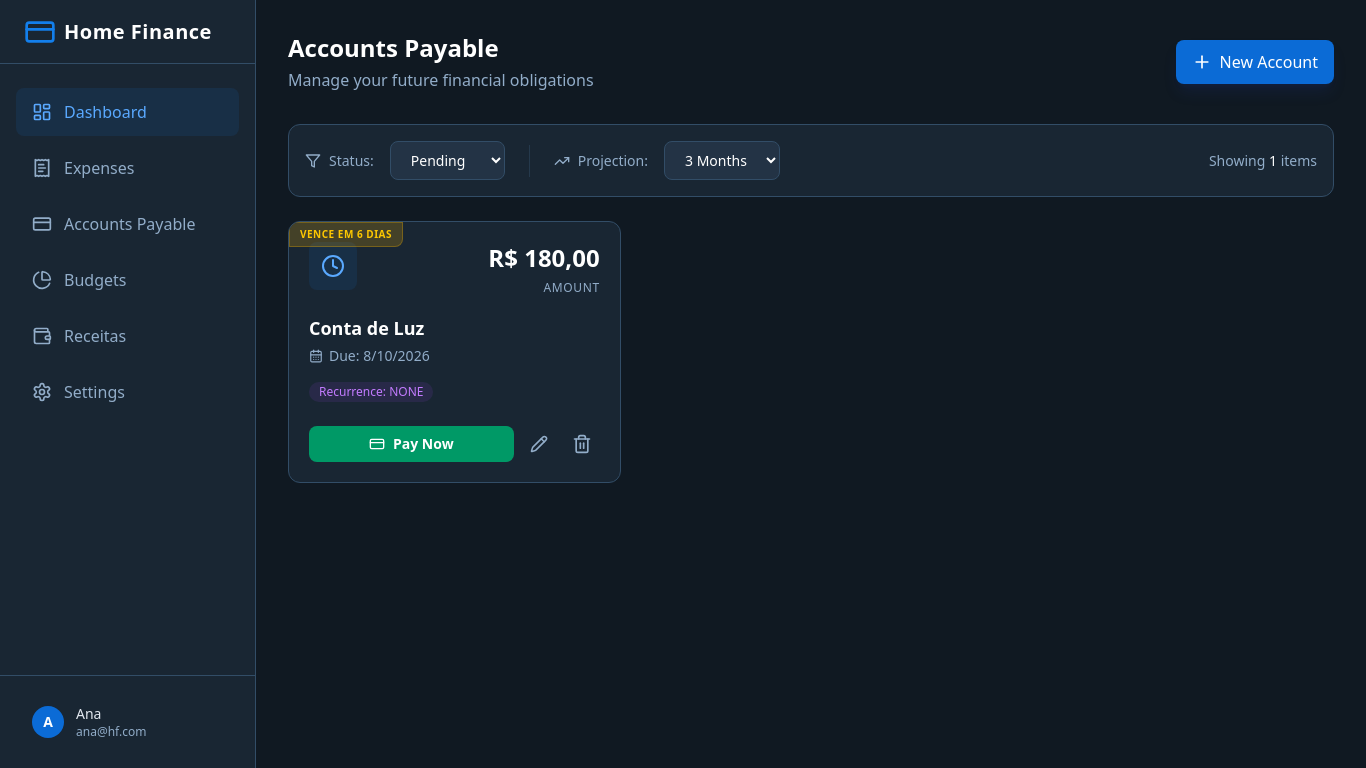
Test case: AccountsPayable (integração) › abre o modal de pagamento ao clicar em Pay Now
This screenshot has width=1366, height=768.
Click the button "Pay Now" at (411,444), box [309,426,514,462]
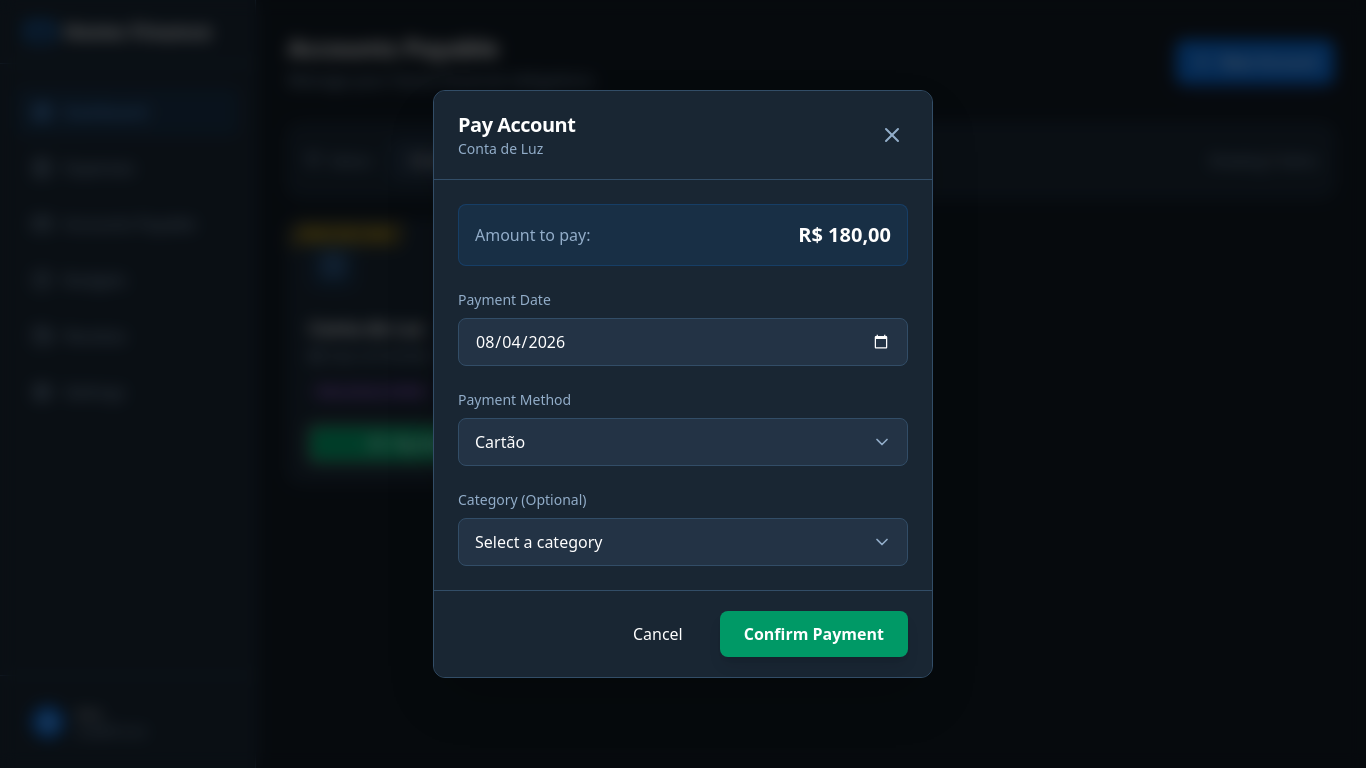
Expected: the heading "Pay Account" is shown, [458,111,575,139]
